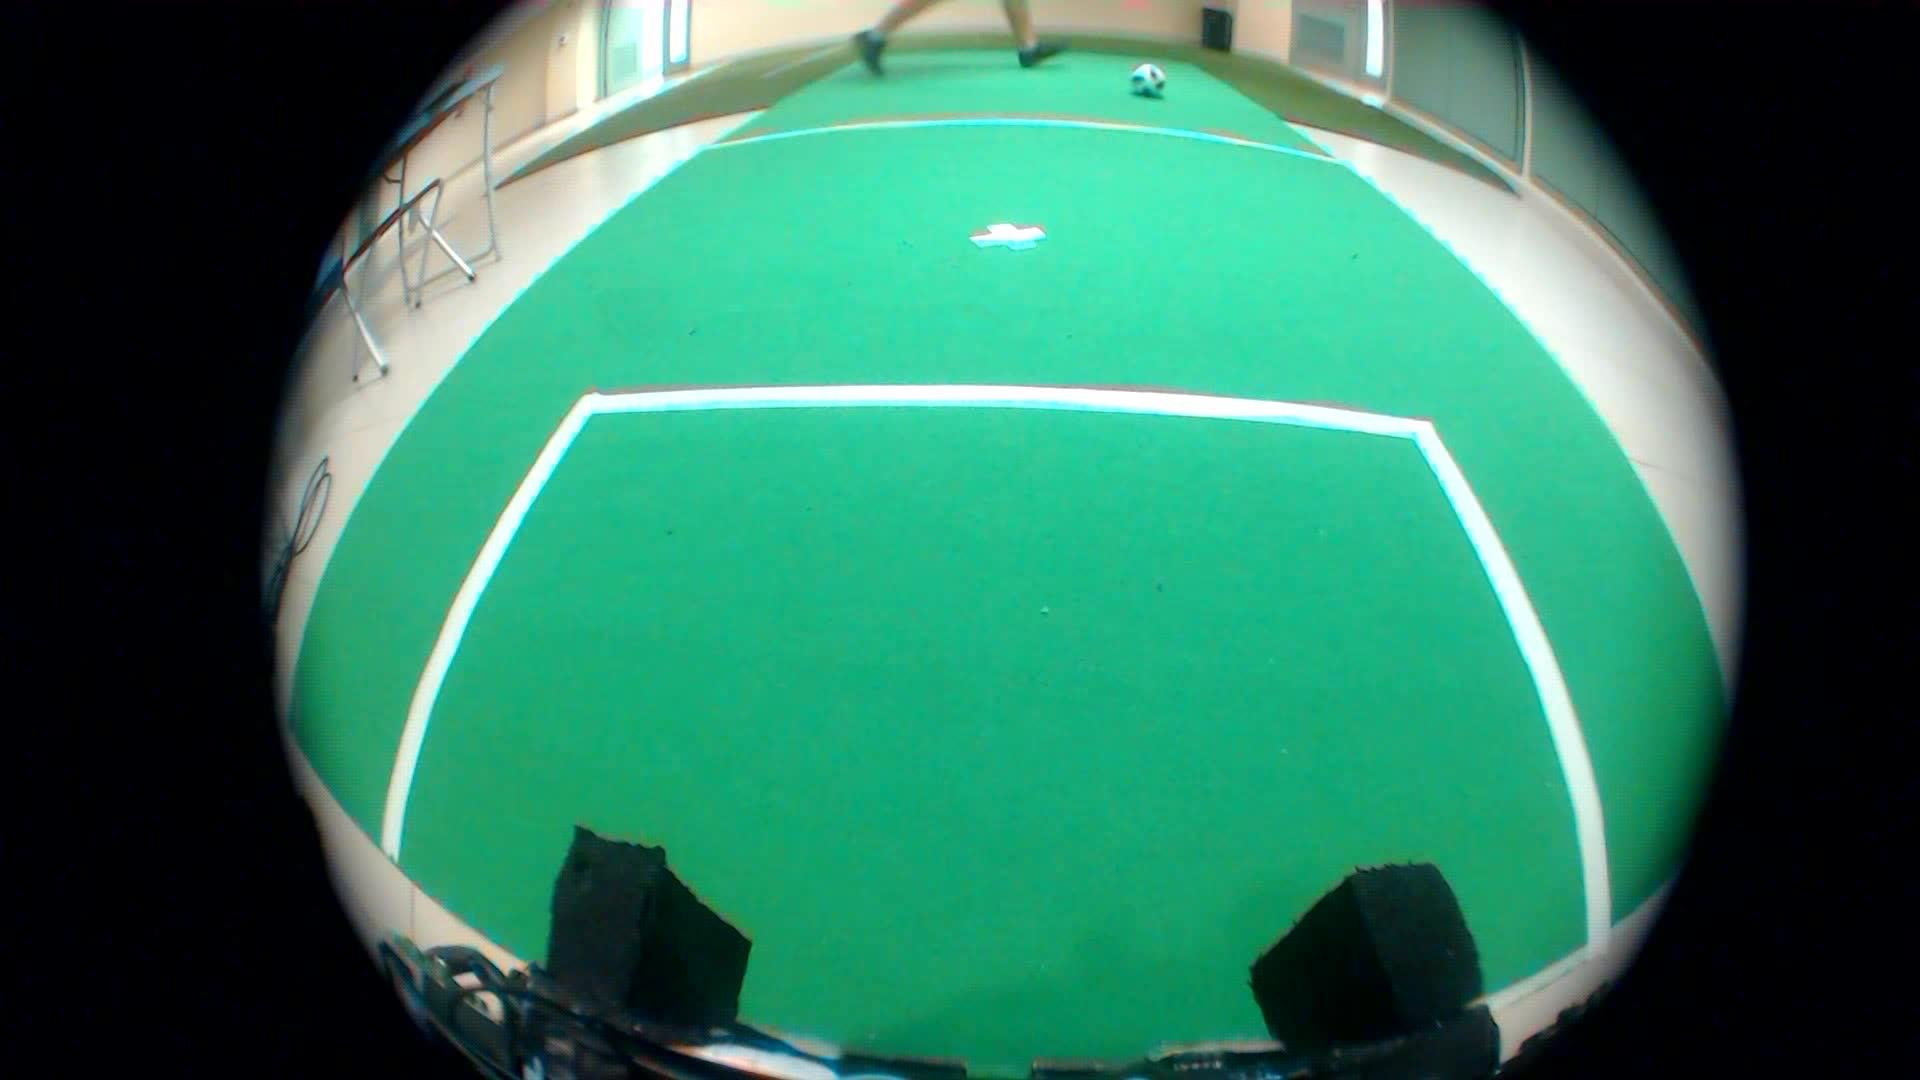ball: (1120, 59, 1171, 111)
